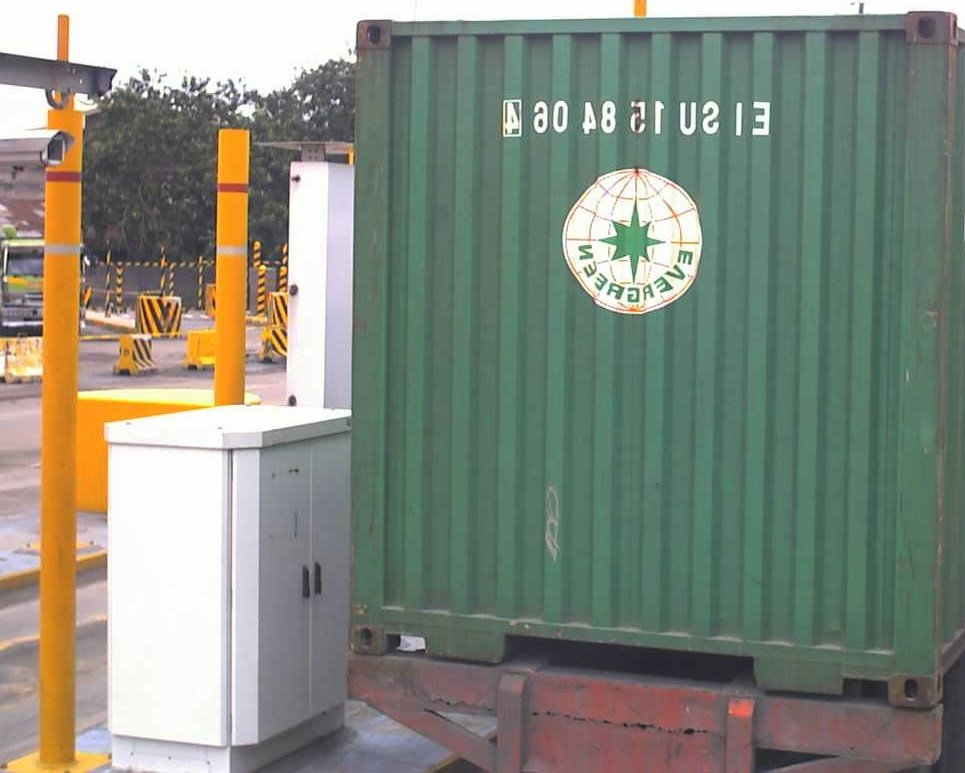container_no_door: (346, 4, 942, 705)
